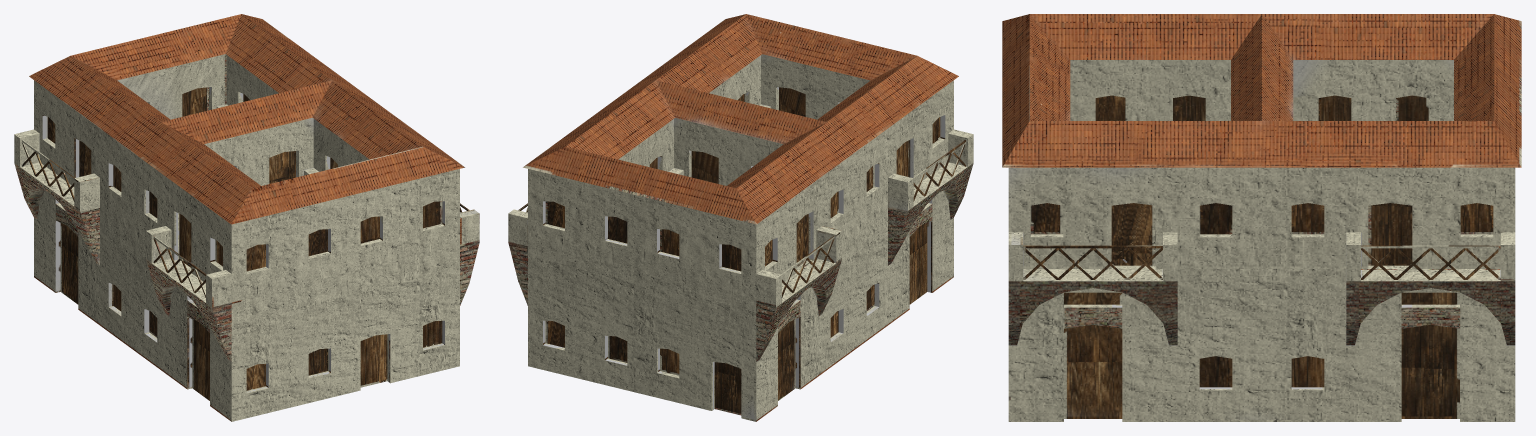
Rendered from roman_fort.glb.
3 renders of one model, left to right at view 1: azimuth 30°, elevation 25°; view 2: azimuth 150°, elevation 25°; view 3: azimuth 270°, elevation 25°, orthographic. The views are drawn at different scales.
Visible parts, largest first — view 1: insula1_0; view 2: insula1_0; view 3: insula1_0.
Part boxes in pixels (left/top/right/bottom): insula1_0: left=14, top=14, right=479, bottom=421; insula1_0: left=508, top=14, right=973, bottom=421; insula1_0: left=1002, top=14, right=1521, bottom=421.
Bounding box in the file's own units: 0.675 × 0.5313 × 0.8841.
1 material, 1 textured.
